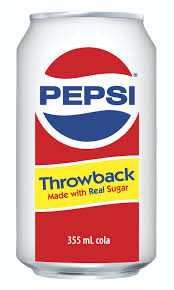can: (10, 4, 161, 280)
